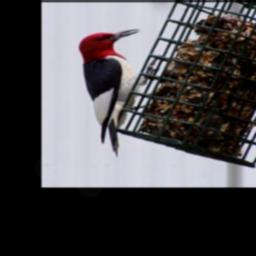Woodpecker: (77, 28, 157, 157)
